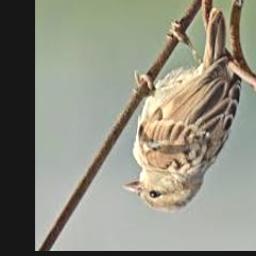Sparrow: (122, 7, 241, 212)
